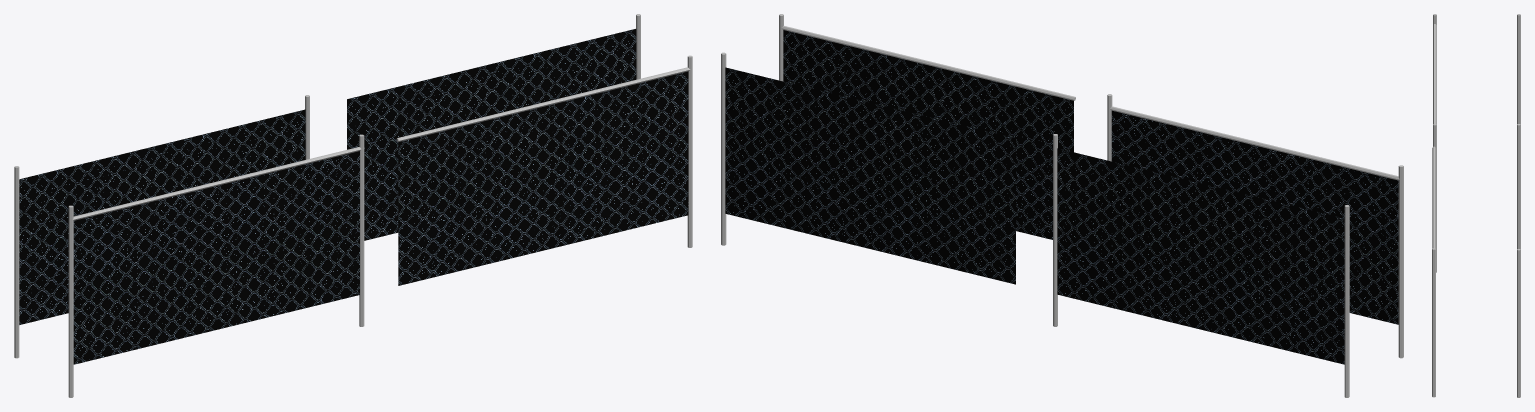
The model's file is Sketchfab_2023_02_26_14_04_43.fbx.
3 renders of one model, left to right at view 1: azimuth 30°, elevation 25°; view 2: azimuth 150°, elevation 25°; view 3: azimuth 270°, elevation 25°, orthographic. The views are drawn at different scales.
Visible parts, largest first — view 1: TexturesCom_MetalVarious0026_1_seamless_S.002, Cylinder.004, Cylinder, Cylinder.001; view 2: Cylinder, Cylinder.001, TexturesCom_MetalVarious0026_1_seamless_S.002, Cylinder.004; view 3: Cylinder.004, Cylinder, TexturesCom_MetalVarious0026_1_seamless_S.002, Cylinder.001.
Boxes of the visible parts, box(x1,y1,x2,y2) form: TexturesCom_MetalVarious0026_1_seamless_S.002: box(68, 134, 364, 397); Cylinder.004: box(396, 55, 692, 285); Cylinder: box(14, 95, 309, 358); Cylinder.001: box(347, 14, 640, 240); Cylinder: box(1053, 134, 1349, 397); Cylinder.001: box(721, 52, 1015, 284); TexturesCom_MetalVarious0026_1_seamless_S.002: box(1107, 94, 1403, 358); Cylinder.004: box(779, 14, 1075, 239); Cylinder.004: box(1432, 146, 1435, 397); Cylinder: box(1517, 14, 1520, 249); TexturesCom_MetalVarious0026_1_seamless_S.002: box(1433, 14, 1436, 272); Cylinder.001: box(1517, 249, 1520, 397).
Size of the model in its own units: 573 by 167 by 90.78.
